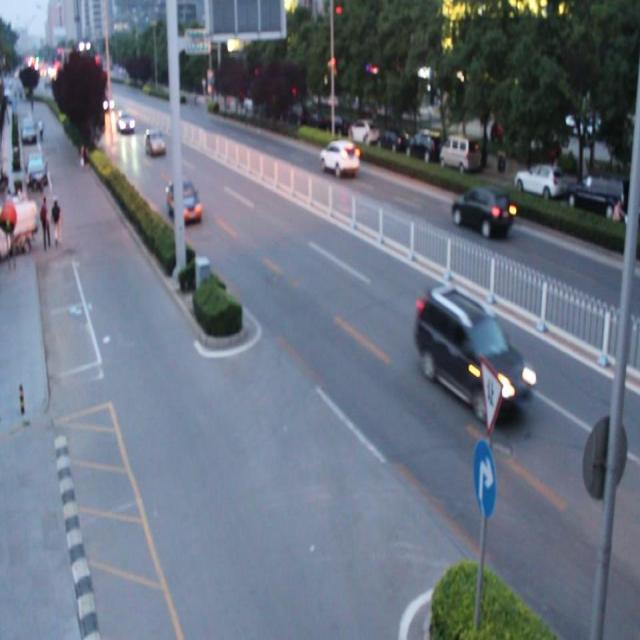car: (415, 282, 533, 420), (451, 180, 512, 237), (166, 177, 203, 226), (319, 136, 360, 178), (144, 127, 167, 155)
